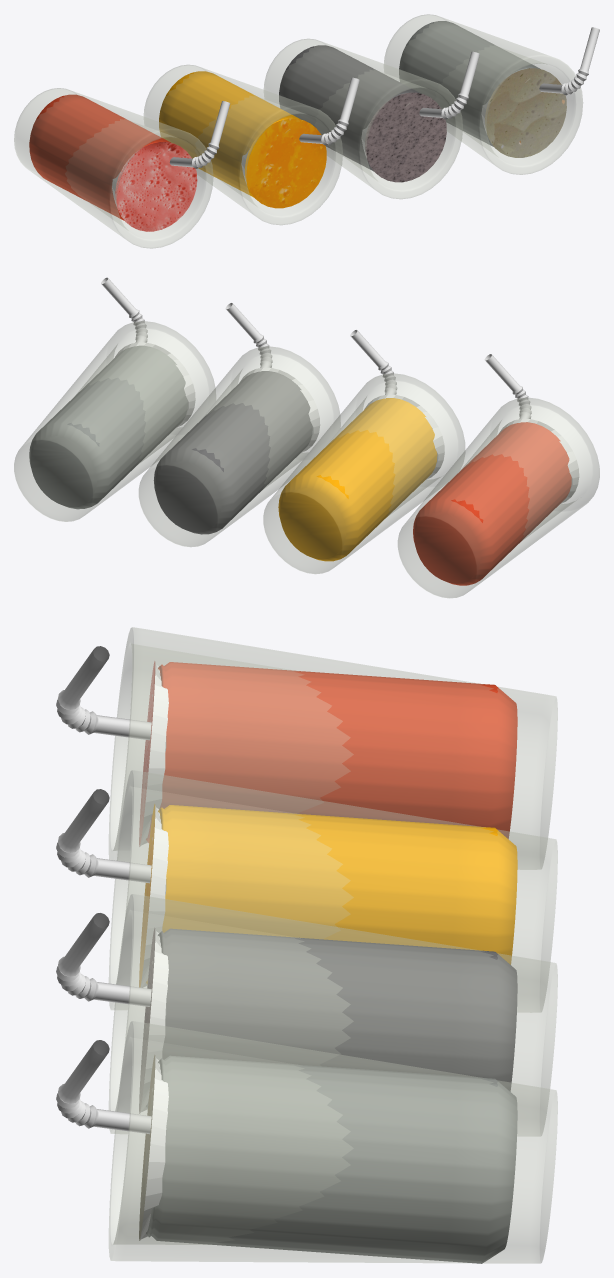
File: shakes.glb
The picture shows the model from 3 angles, top to bottom: view 1: azimuth 30°, elevation 25°; view 2: azimuth 150°, elevation 25°; view 3: azimuth 270°, elevation 25°; orthographic projection. The views are drawn at different scales.
Parts seen in each view (by area): view 1: Vert.002, Vert.004, Vert.006, Vert.008, Cylinder.003, Cylinder.004, Cylinder.005, Cylinder.006, coffee.004, coffee.005, coffee.003, coffee.006 (+4 smaller); view 2: Vert.002, Vert.004, Vert.006, Vert.008, Cylinder.003, Cylinder.005, Cylinder.006, Cylinder.004, Vert.007, Vert.005, Vert.003, Vert.001 (+4 smaller); view 3: Vert.008, Vert.002, Cylinder.006, Vert.006, Vert.004, Cylinder.003, Cylinder.005, Cylinder.004, Vert.001, Vert.007, Vert.003, Vert.005 (+4 smaller).
Part boxes in pixels (left/top/right/bottom): Vert.002: left=14, top=88, right=213, bottom=248; Vert.004: left=144, top=65, right=342, bottom=224; Vert.006: left=264, top=39, right=462, bottom=198; Vert.008: left=384, top=14, right=582, bottom=174; Cylinder.003: left=29, top=94, right=170, bottom=220; Cylinder.004: left=159, top=71, right=300, bottom=197; Cylinder.005: left=279, top=45, right=420, bottom=171; Cylinder.006: left=399, top=21, right=540, bottom=147; coffee.004: left=241, top=118, right=326, bottom=208; coffee.005: left=361, top=92, right=446, bottom=182; coffee.003: left=112, top=142, right=197, bottom=231; coffee.006: left=481, top=68, right=566, bottom=157; Vert.002: left=398, top=398, right=599, bottom=598; Vert.004: left=263, top=373, right=465, bottom=573; Vert.006: left=139, top=346, right=340, bottom=546; Vert.008: left=14, top=321, right=215, bottom=521; Cylinder.003: left=413, top=422, right=571, bottom=585; Cylinder.005: left=153, top=371, right=312, bottom=534; Cylinder.006: left=29, top=345, right=187, bottom=509; Cylinder.004: left=278, top=398, right=437, bottom=561; Vert.007: left=101, top=277, right=147, bottom=342; Vert.005: left=225, top=303, right=272, bottom=367; Vert.003: left=350, top=330, right=397, bottom=394; Vert.001: left=484, top=354, right=531, bottom=418; Vert.008: left=109, top=1021, right=557, bottom=1263; Vert.002: left=109, top=627, right=557, bottom=869; Cylinder.006: left=146, top=1055, right=517, bottom=1263; Vert.006: left=109, top=894, right=557, bottom=1136; Vert.004: left=109, top=770, right=557, bottom=1012; Cylinder.003: left=146, top=662, right=517, bottom=842; Cylinder.005: left=146, top=928, right=517, bottom=1108; Cylinder.004: left=146, top=805, right=517, bottom=983; Vert.001: left=56, top=646, right=151, bottom=740; Vert.007: left=56, top=1040, right=151, bottom=1133; Vert.003: left=56, top=789, right=151, bottom=883; Vert.005: left=56, top=913, right=151, bottom=1006.
Size of the model in its own units: 11.92 by 3.63 by 5.34.
20 materials, 4 textured.
